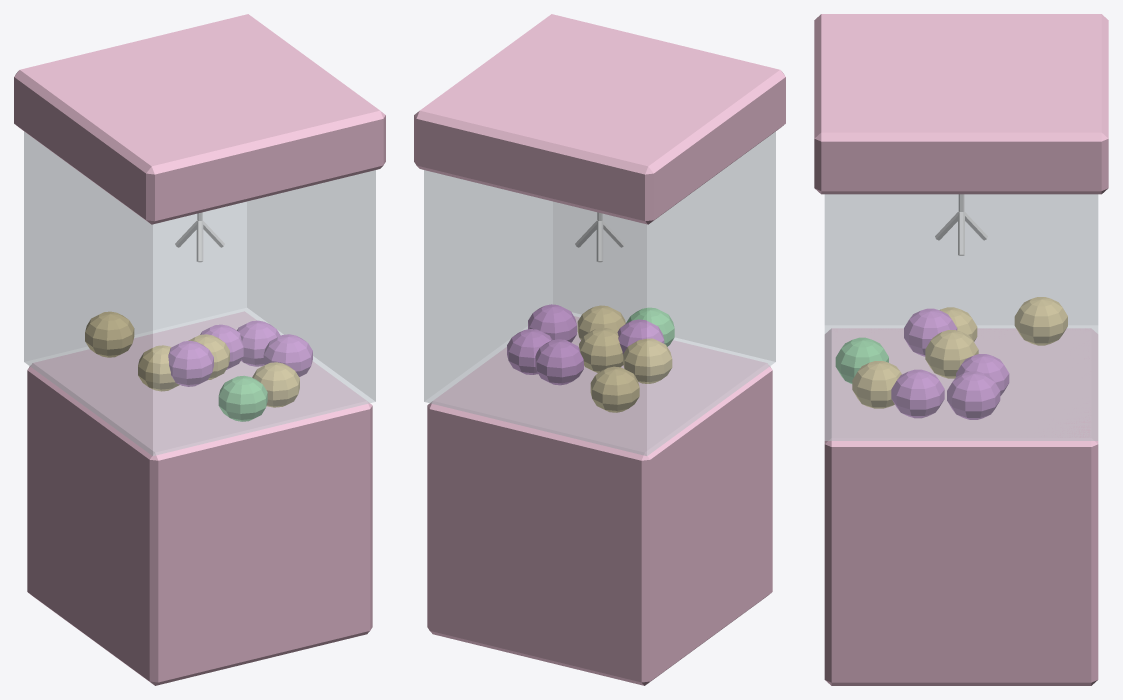
The model's file is ClawMachine.fbx.
The picture shows the model from 3 angles, left to right: view 1: azimuth 30°, elevation 25°; view 2: azimuth 150°, elevation 25°; view 3: azimuth 270°, elevation 25°; orthographic projection. The views are drawn at different scales.
Parts seen in each view (by area): view 1: Prop_ClawMachine; view 2: Prop_ClawMachine; view 3: Prop_ClawMachine.
Part boxes in pixels (<box>): Prop_ClawMachine: <box>14,14,385,685</box>; Prop_ClawMachine: <box>414,14,785,685</box>; Prop_ClawMachine: <box>814,14,1108,685</box>.
Bounding box in the file's own units: 0.86 × 1.8 × 0.86.
